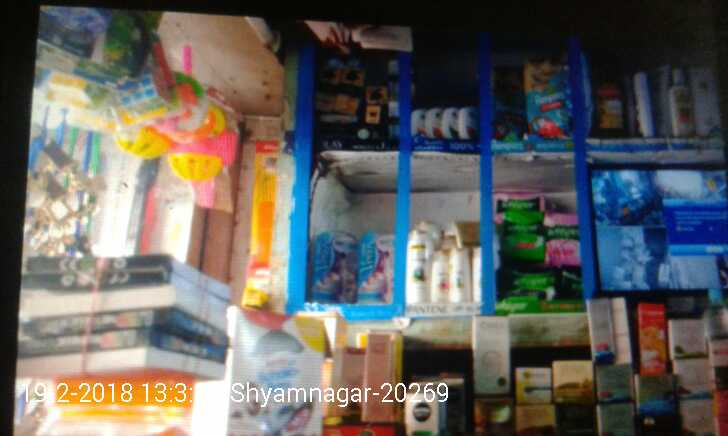venus: (354, 231, 397, 304), (314, 231, 354, 304)
